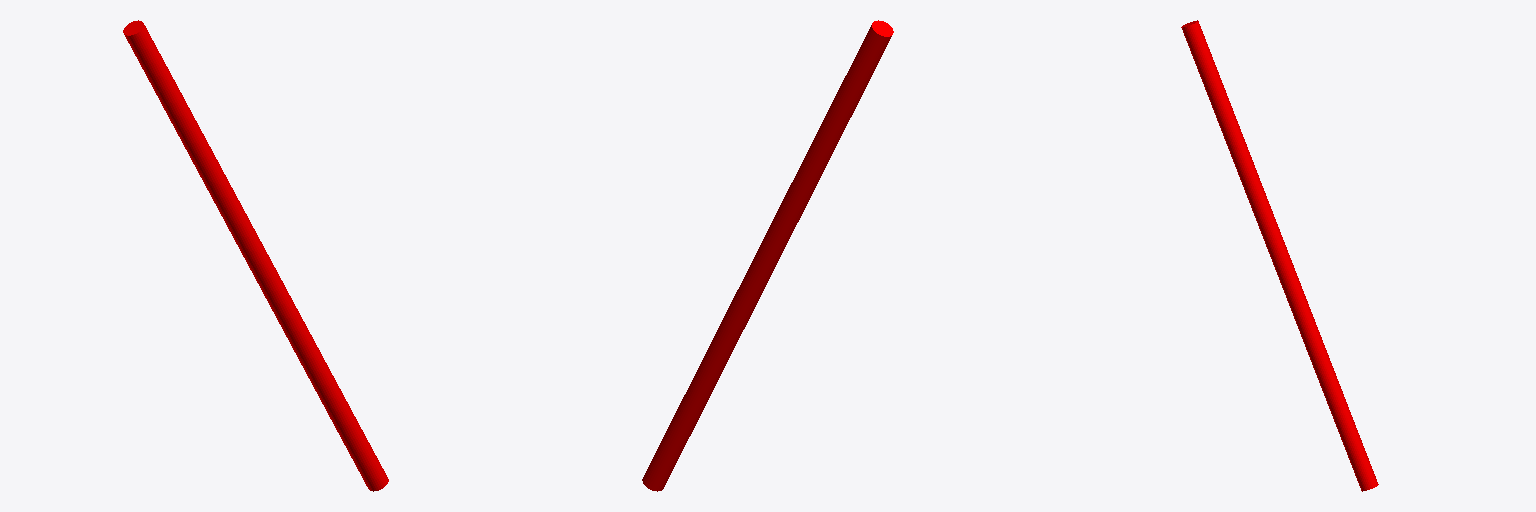
robot.urdf — tree_62.urdf:
<?xml version='1.0' encoding='utf-8'?>
<robot name="tree_62.urdf">
  <link name="branch_0">
    <inertial>
      <origin xyz="0.0 0.0 0.0" rpy="0.0 -0.0 0.0" />
      <mass value="1.0" />
      <inertia ixx="1.0" ixy="0.0" ixz="0.0" iyy="1.0" iyz="0.0" izz="1.0" />
    </inertial>
    <visual name="branch_0_visual">
      <geometry>
        <cylinder radius="0.04666552189855164" length="2.5572780565741122" />
      </geometry>
      <material name="semantic_material" />
      <origin xyz="-0.5566190371493159 0.04862237933599355 1.1500995071599422" rpy="0.0 0.4522375054711233 3.0544607603566694" />
    </visual>
    <collision name="branch_0_collision">
      <geometry>
        <cylinder radius="0.04666552189855164" length="2.5572780565741122" />
      </geometry>
      <origin xyz="-0.5566190371493159 0.04862237933599355 1.1500995071599422" rpy="0.0 0.4522375054711233 3.0544607603566694" />
    </collision>
  </link>
  <material name="semantic_material">
    <color rgba="1. 0. 0. 1." />
  </material>
</robot>

--- Facts derived from the render (not from the file) ---
3 views of the same robot in one strip: view 1: azimuth 30°, elevation 25°; view 2: azimuth 150°, elevation 25°; view 3: azimuth 330°, elevation 25° (orthographic).
Model tree_62.urdf with 1 links and 0 joints (none), rooted at branch_0, posed every joint at zero.
Links seen in each view (by area): view 1: branch_0; view 2: branch_0; view 3: branch_0.
Link boxes in pixels (left/top/right/bottom): branch_0: left=123, top=20, right=388, bottom=491; branch_0: left=642, top=20, right=893, bottom=491; branch_0: left=1181, top=20, right=1378, bottom=491.
Bounding box of the posed robot: 1.2 × 0.1902 × 2.34 m (x, y, z).
Geometry: primitives only (box / cylinder / sphere), no mesh files.